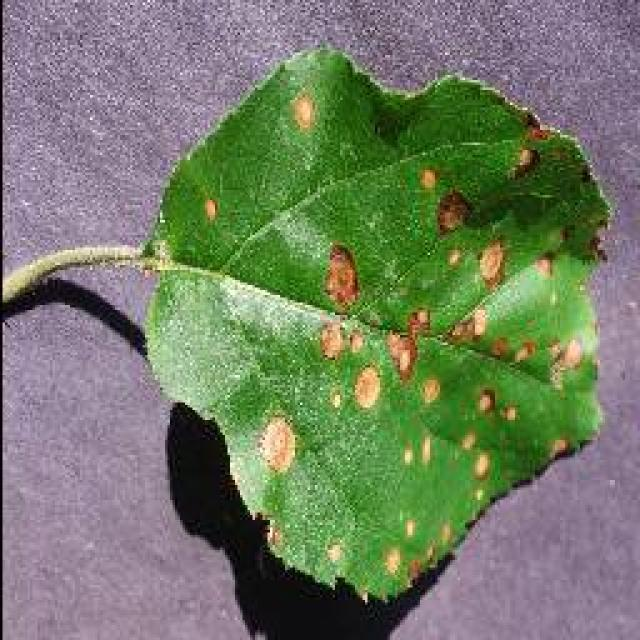Apple___Black_rot: (135, 40, 617, 610)
